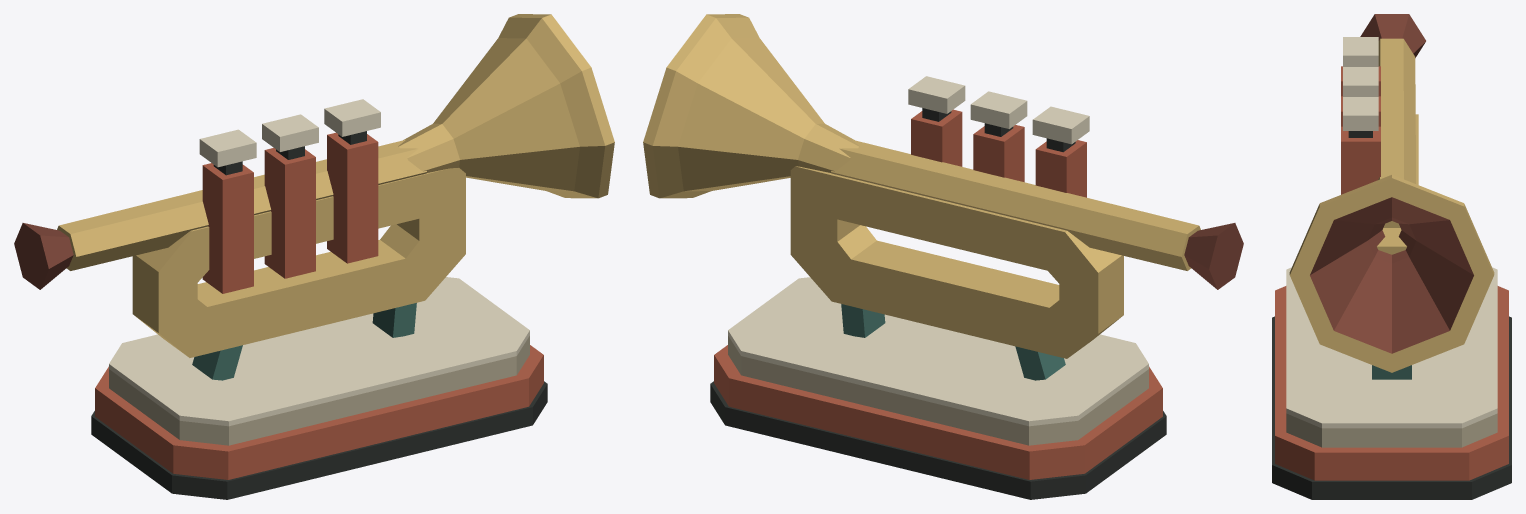
Rendered from trumpet.glb.
3 views of the same model, side by side, from view 1: azimuth 30°, elevation 25°; view 2: azimuth 150°, elevation 25°; view 3: azimuth 270°, elevation 25° (orthographic).
Parts seen in each view (by area): view 1: Trumpet; view 2: Trumpet; view 3: Trumpet.
Boxes of the visible parts, x1=… form: Trumpet: x1=14, y1=14, x2=614, y2=499; Trumpet: x1=643, y1=14, x2=1243, y2=499; Trumpet: x1=1272, y1=14, x2=1511, y2=499.
Size of the model in its own units: 2.79 by 1.71 by 1.08.
